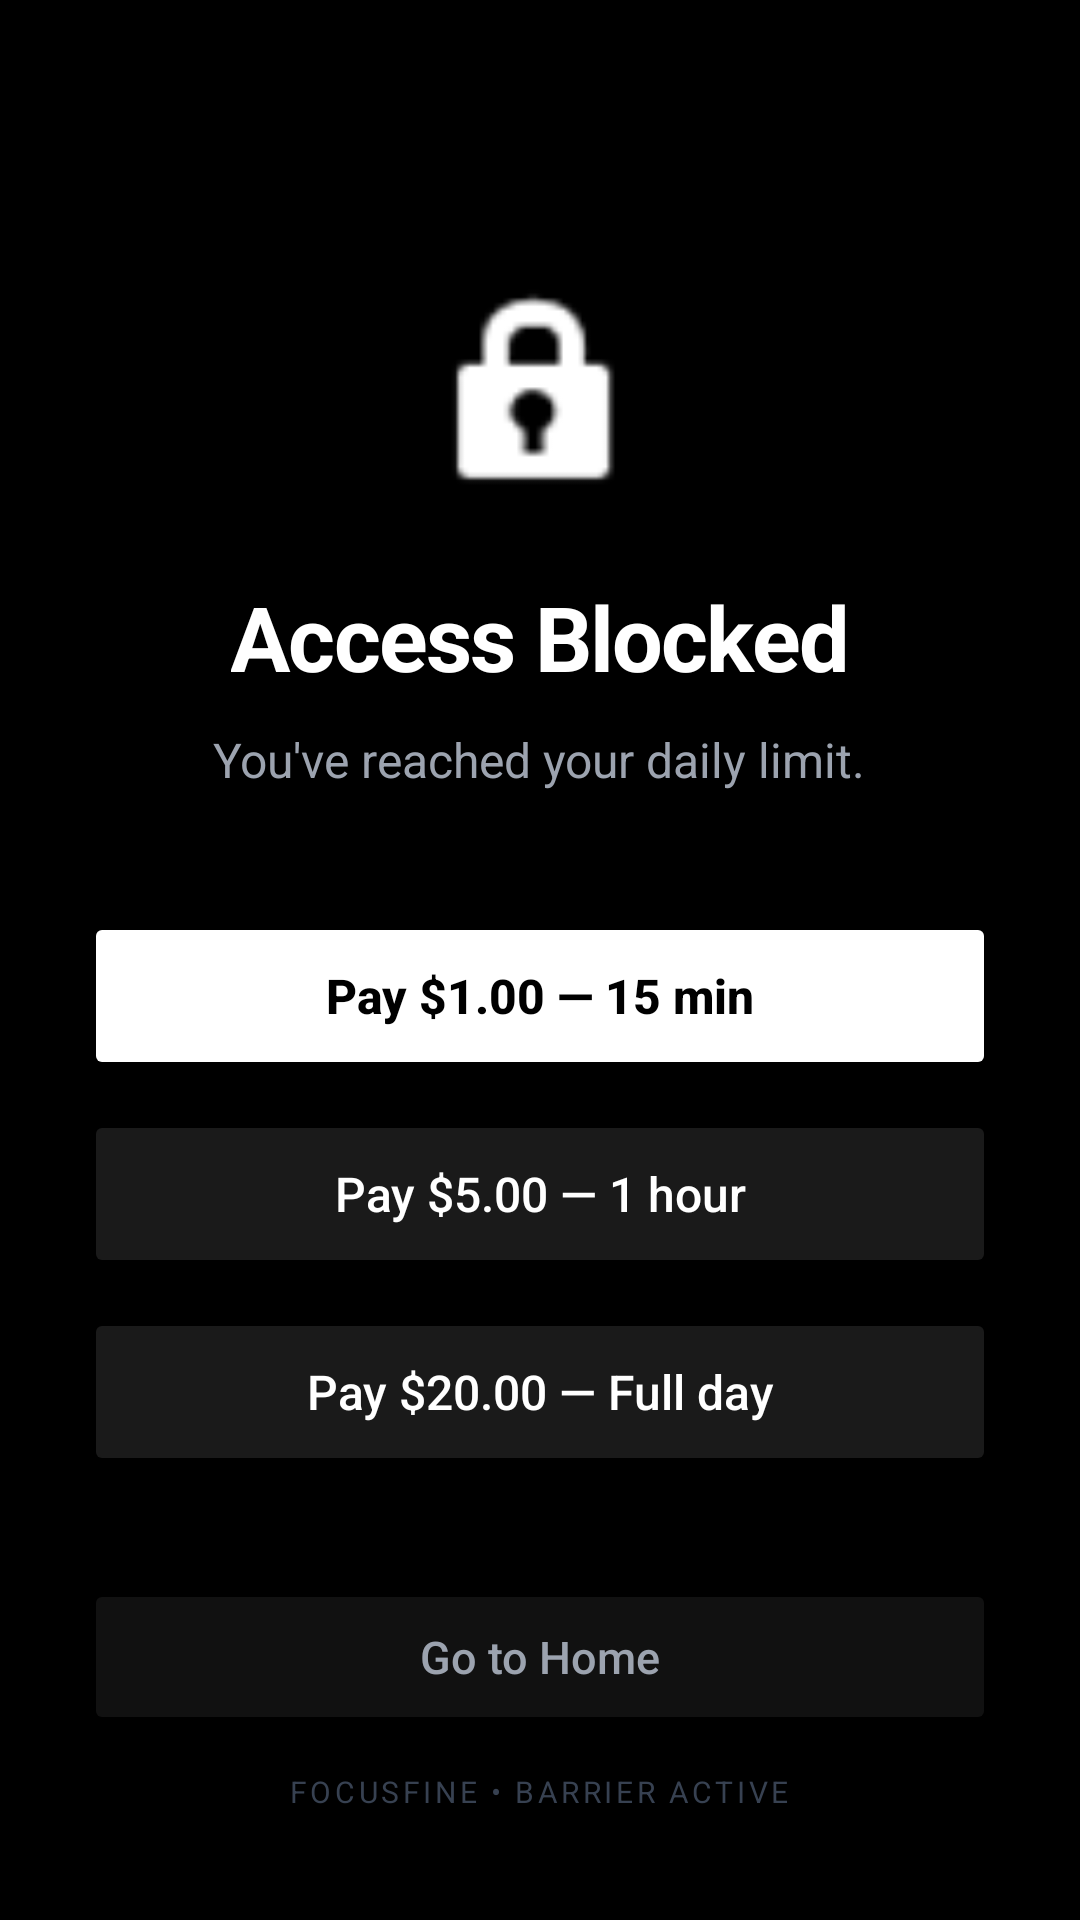

Named icons in this screenshot (1080x1920) and their bounding boxes, (x1, y1, x2, y2):
lock idle: (456, 295, 614, 480)
